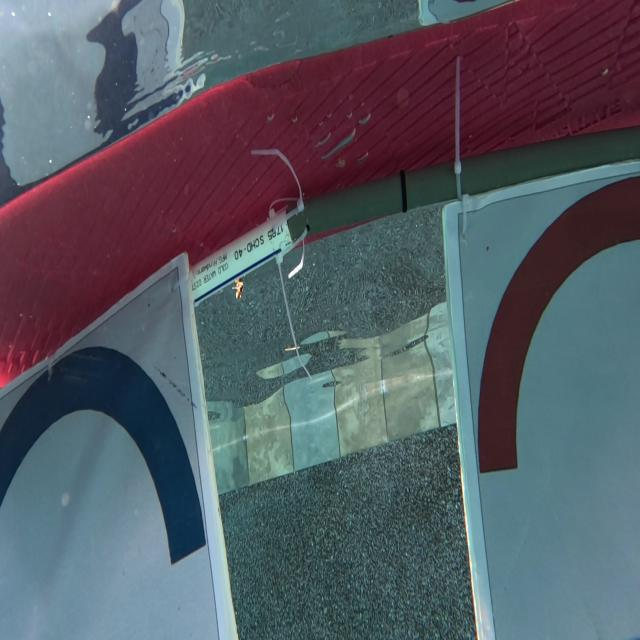blue_side: (0, 282, 206, 640)
red_side: (462, 164, 640, 640)
